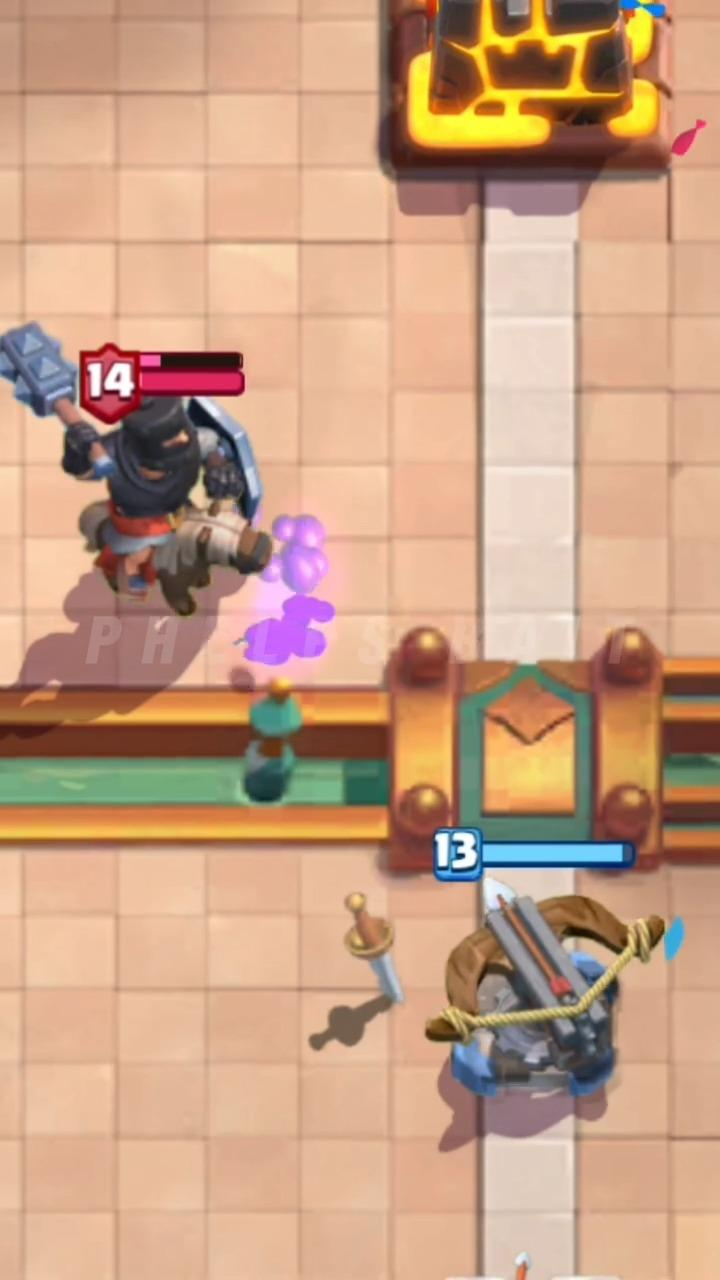dark prince: (64, 396, 271, 615)
x-bow: (426, 877, 664, 1098)
